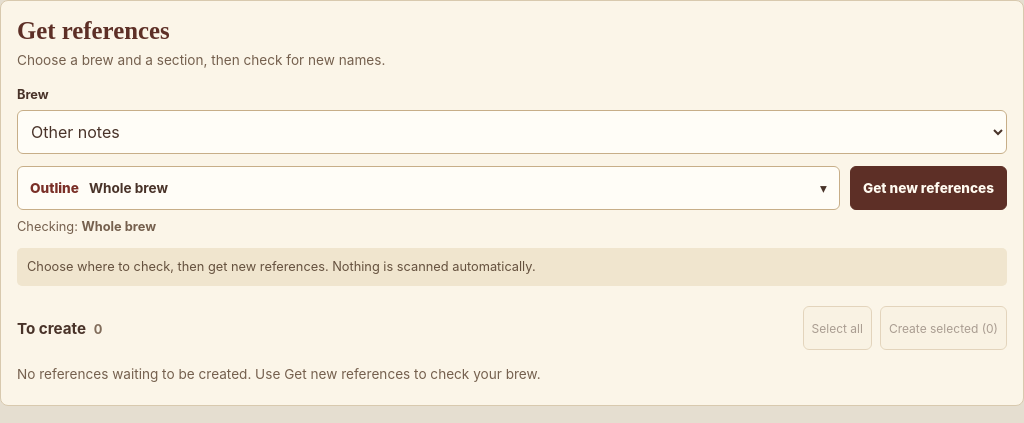
BrewReferenceScanner › switches brews without carrying over the previous section and disables scanning without a brew
Select "Other notes" in the dropdown labelled "Brew": (512, 132) [17,110,1007,154]
Click the button "Get new references": (928, 188) [850,166,1007,210]
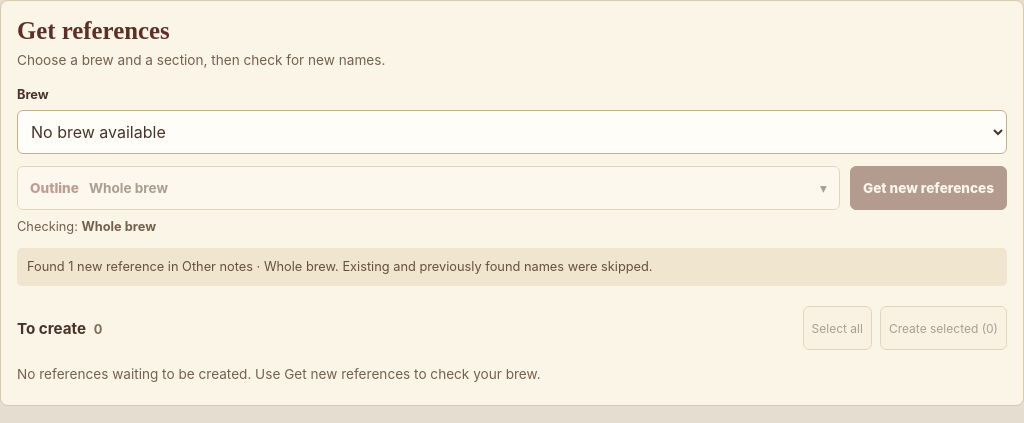
Check: the button "Get new references" is disabled, box [850,166,1007,210]
